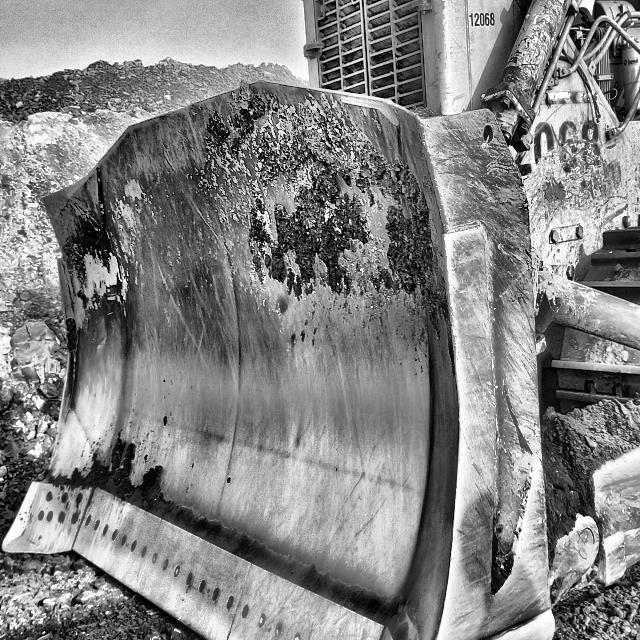buldozerpayloadergrader: (5, 0, 640, 640)
